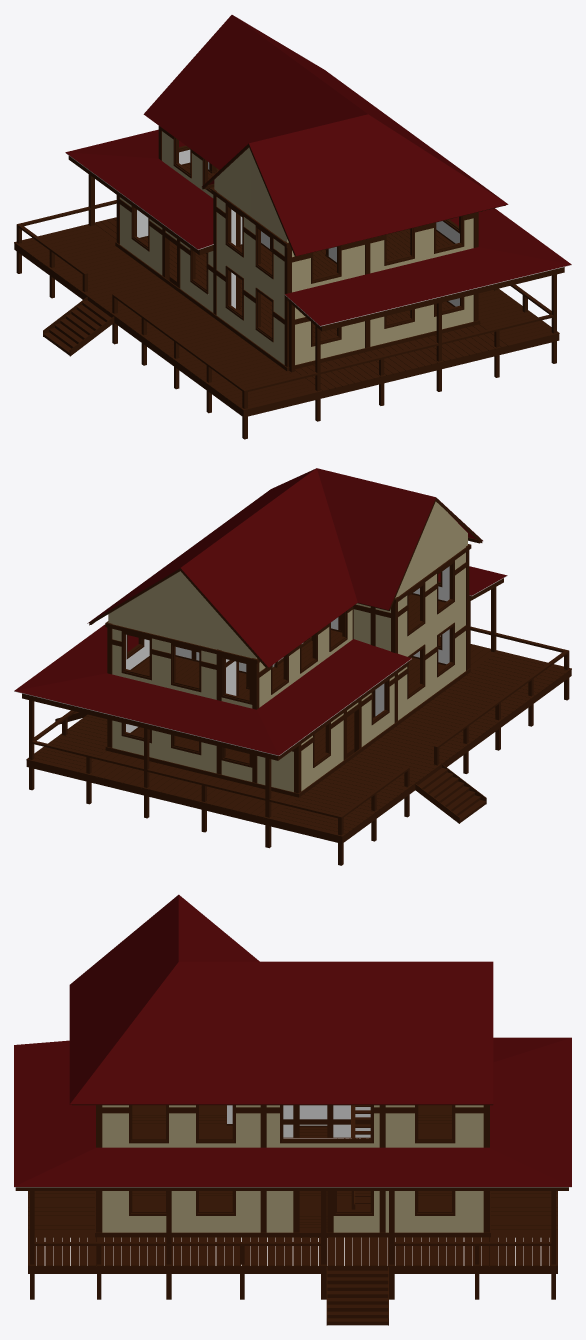
Rendered from farm_house.glb.
3 views of the same model, one above another, from view 1: azimuth 30°, elevation 25°; view 2: azimuth 150°, elevation 25°; view 3: azimuth 270°, elevation 25° (orthographic). The views are drawn at different scales.
Visible parts, largest first — view 1: RoofHouse_TheFarmHouse, Deck_TheFarmHouse, Walls_TheFarmHouse, RoofPorch_TheFarmHouse, PorchDeckPosts_TheFarmHouse, Floors_TheFarmHouse, RoofBulkhead_TheFarmHouse, PorchRoofTrim_TheFarmHouse, StairsPorch__TheFarmHouse, PorchTrim_TheFarmHouse, RoofTrim_TheFarmHouse; view 2: RoofHouse_TheFarmHouse, Walls_TheFarmHouse, Deck_TheFarmHouse, RoofPorch_TheFarmHouse, PorchDeckPosts_TheFarmHouse, RoofBulkhead2_TheFarmHouse, Floors_TheFarmHouse, RoofBulkhead_TheFarmHouse, RoofTrim_TheFarmHouse, StairsPorch__TheFarmHouse, PorchRoofTrim_TheFarmHouse, PorchTrim_TheFarmHouse; view 3: RoofHouse_TheFarmHouse, RoofPorch_TheFarmHouse, Walls_TheFarmHouse, Deck_TheFarmHouse, Floors_TheFarmHouse, PorchDeckPosts_TheFarmHouse, StairsPorch__TheFarmHouse, PorchTrim_TheFarmHouse, PorchRoofTrim_TheFarmHouse, RoofTrim_TheFarmHouse, StairCase_TheFarmHouse.
Part boxes in pixels (x1=…): RoofHouse_TheFarmHouse: x1=143, y1=15, x2=508, y2=256; Deck_TheFarmHouse: x1=14, y1=217, x2=559, y2=417; Walls_TheFarmHouse: x1=116, y1=126, x2=478, y2=366; RoofPorch_TheFarmHouse: x1=65, y1=129, x2=571, y2=326; PorchDeckPosts_TheFarmHouse: x1=16, y1=174, x2=556, y2=439; Floors_TheFarmHouse: x1=139, y1=162, x2=455, y2=341; RoofBulkhead_TheFarmHouse: x1=214, y1=147, x2=288, y2=242; PorchRoofTrim_TheFarmHouse: x1=68, y1=156, x2=564, y2=331; StairsPorch__TheFarmHouse: x1=43, y1=297, x2=114, y2=356; PorchTrim_TheFarmHouse: x1=115, y1=242, x2=480, y2=371; RoofTrim_TheFarmHouse: x1=202, y1=144, x2=505, y2=257; RoofHouse_TheFarmHouse: x1=87, y1=468, x2=482, y2=667; Walls_TheFarmHouse: x1=107, y1=544, x2=469, y2=793; Deck_TheFarmHouse: x1=26, y1=636, x2=571, y2=843; RoofPorch_TheFarmHouse: x1=14, y1=566, x2=507, y2=755; PorchDeckPosts_TheFarmHouse: x1=29, y1=587, x2=569, y2=865; RoofBulkhead2_TheFarmHouse: x1=108, y1=571, x2=256, y2=658; Floors_TheFarmHouse: x1=130, y1=593, x2=446, y2=761; RoofBulkhead_TheFarmHouse: x1=395, y1=501, x2=467, y2=597; RoofTrim_TheFarmHouse: x1=89, y1=498, x2=482, y2=668; StairsPorch__TheFarmHouse: x1=55, y1=711, x2=486, y2=823; PorchRoofTrim_TheFarmHouse: x1=22, y1=578, x2=503, y2=760; PorchTrim_TheFarmHouse: x1=105, y1=668, x2=470, y2=797; RoofHouse_TheFarmHouse: x1=69, y1=894, x2=493, y2=1104; RoofPorch_TheFarmHouse: x1=14, y1=1037, x2=571, y2=1187; Walls_TheFarmHouse: x1=96, y1=1105, x2=489, y2=1265; Deck_TheFarmHouse: x1=28, y1=1191, x2=557, y2=1273; Floors_TheFarmHouse: x1=132, y1=1105, x2=451, y2=1229; PorchDeckPosts_TheFarmHouse: x1=30, y1=1191, x2=555, y2=1299; StairsPorch__TheFarmHouse: x1=326, y1=1267, x2=388, y2=1325; PorchTrim_TheFarmHouse: x1=95, y1=1191, x2=490, y2=1237; PorchRoofTrim_TheFarmHouse: x1=15, y1=1187, x2=568, y2=1190; RoofTrim_TheFarmHouse: x1=72, y1=1104, x2=492, y2=1105; StairCase_TheFarmHouse: x1=351, y1=1105, x2=370, y2=1209.
Bounding box in the file's own units: 22.16 × 12.17 × 22.96.
